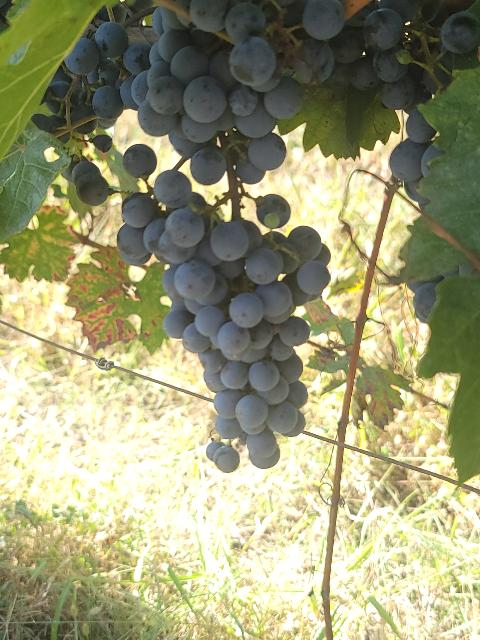grapes: (118, 170, 330, 469)
